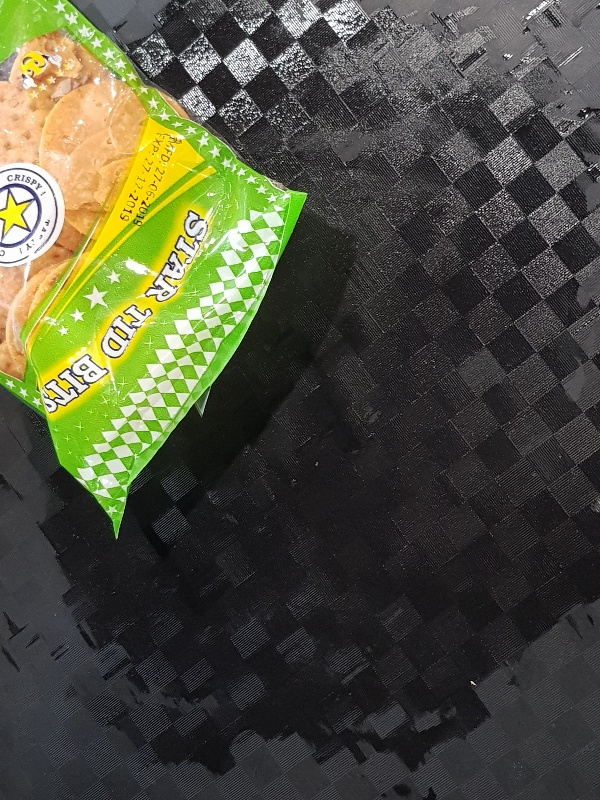Star Tidbits 'O' Ring: (1, 1, 309, 541)
